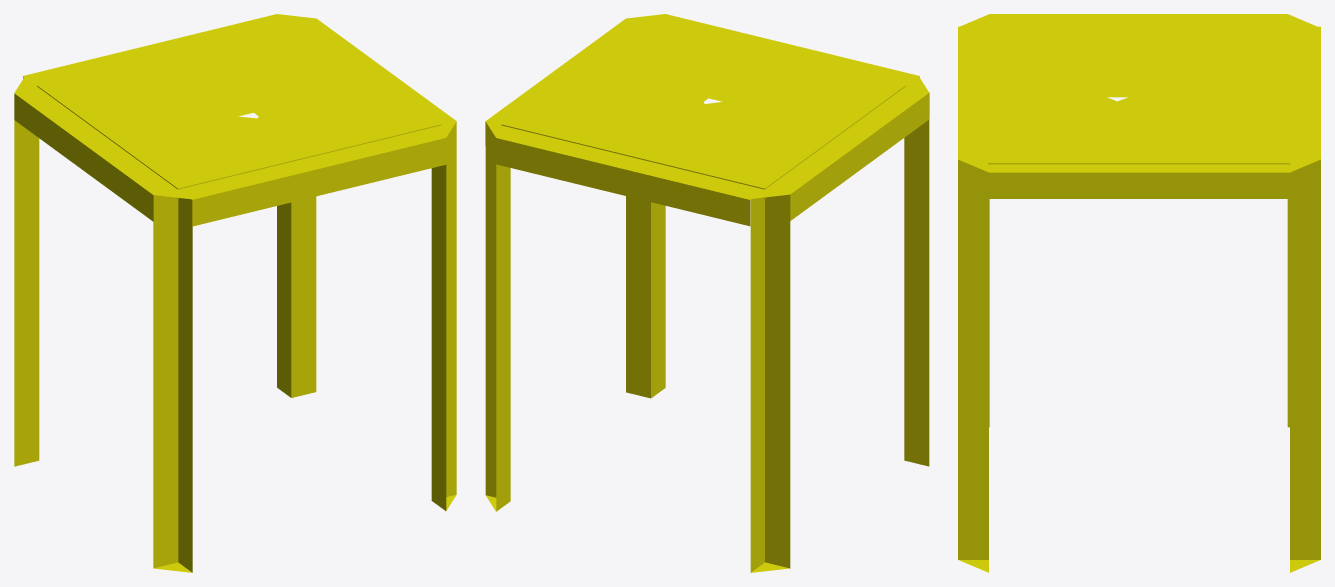
The model's file is MesaBar.fbx.
The picture shows the model from 3 angles, left to right: view 1: azimuth 30°, elevation 25°; view 2: azimuth 150°, elevation 25°; view 3: azimuth 270°, elevation 25°; orthographic projection. The views are drawn at different scales.
Visible parts, largest first — view 1: Cube, Plane.001, Plane.002, Plane, Plane.003; view 2: Cube, Plane.002, Plane.003, Plane.001, Plane; view 3: Cube, Plane.001, Plane.003, Plane.002.
Part boxes in pixels (box(x1,y1,x2,y2)): Cube: box(37, 21, 441, 198); Plane.001: box(178, 18, 456, 510); Plane.002: box(14, 77, 176, 466); Plane: box(153, 189, 192, 572); Plane.003: box(23, 14, 316, 397); Cube: box(501, 21, 905, 198); Plane.002: box(750, 86, 929, 572); Plane.003: box(485, 121, 763, 511); Plane.001: box(485, 14, 919, 398); Plane: box(904, 77, 929, 466); Cube: box(988, 25, 1290, 174); Plane.001: box(958, 26, 1290, 572); Plane.003: box(1290, 26, 1320, 572); Plane.002: box(988, 14, 1317, 427).
Bounding box in the file's own units: 383 × 452 × 370.
